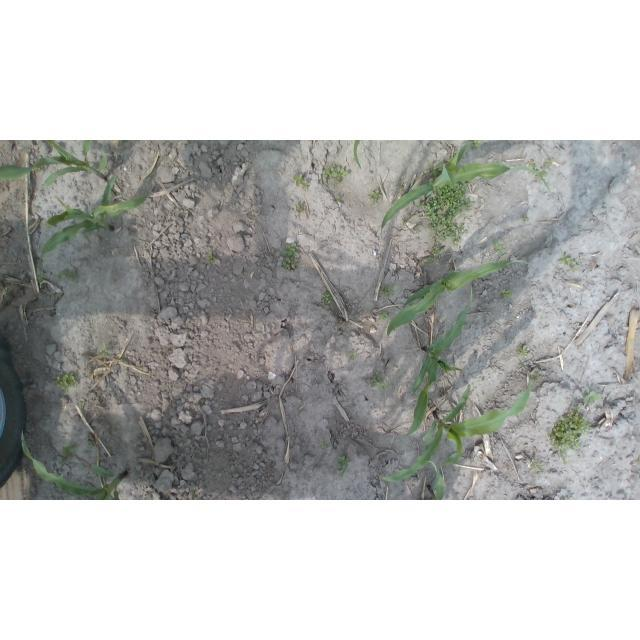Maize: (375, 356, 534, 499), (380, 142, 544, 245), (387, 258, 531, 345), (397, 282, 473, 438), (38, 175, 150, 278), (20, 429, 128, 498), (1, 141, 115, 189), (352, 141, 366, 171)
Weeds: (420, 157, 475, 265), (549, 391, 606, 466), (54, 372, 79, 392), (56, 444, 78, 465), (529, 157, 551, 177), (561, 251, 582, 271), (283, 245, 299, 270), (323, 164, 347, 180), (336, 453, 350, 475), (369, 371, 385, 389), (532, 460, 547, 475), (493, 238, 503, 258), (318, 439, 332, 453), (295, 173, 308, 187), (382, 283, 395, 295), (370, 189, 382, 201), (519, 345, 530, 358), (530, 372, 541, 385), (322, 293, 331, 307), (296, 200, 305, 213), (57, 270, 73, 277), (207, 252, 214, 265), (98, 349, 107, 358), (382, 311, 390, 320), (504, 289, 510, 299), (79, 402, 85, 410), (522, 215, 528, 222), (87, 441, 94, 447)
